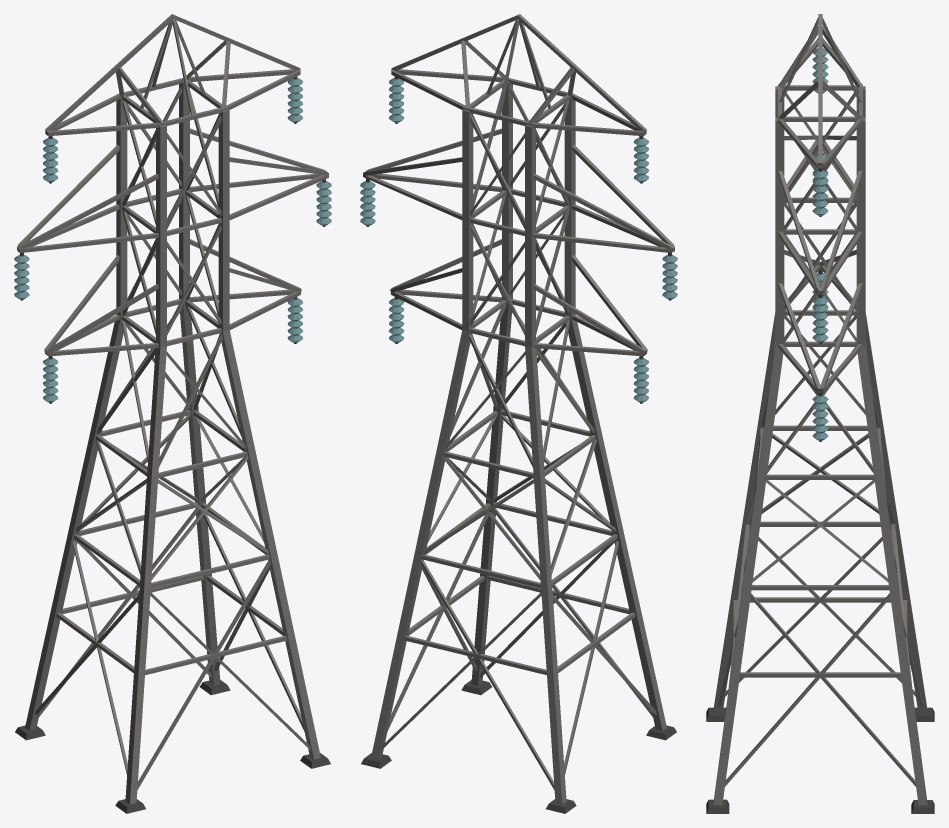
File: SM_Props_Industrial_TransmissionTower.fbx
3 views of the same model, side by side, from view 1: azimuth 30°, elevation 25°; view 2: azimuth 150°, elevation 25°; view 3: azimuth 270°, elevation 25° (orthographic). The views are drawn at different scales.
Parts seen in each view (by area): view 1: SM_Props_Industrial_TransmissionTower; view 2: SM_Props_Industrial_TransmissionTower; view 3: SM_Props_Industrial_TransmissionTower.
Part boxes in pixels (x1,y1,x2,y2): SM_Props_Industrial_TransmissionTower: [14, 14, 331, 813]; SM_Props_Industrial_TransmissionTower: [360, 14, 677, 813]; SM_Props_Industrial_TransmissionTower: [706, 14, 934, 813].
Size of the model in its own units: 1653 by 3664 by 1013.
